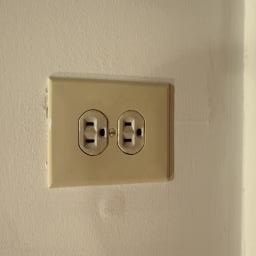outlet: (36, 71, 178, 189)
